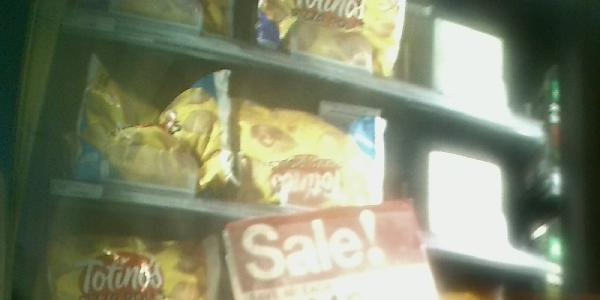icecream: (70, 50, 238, 201), (237, 75, 394, 229)
